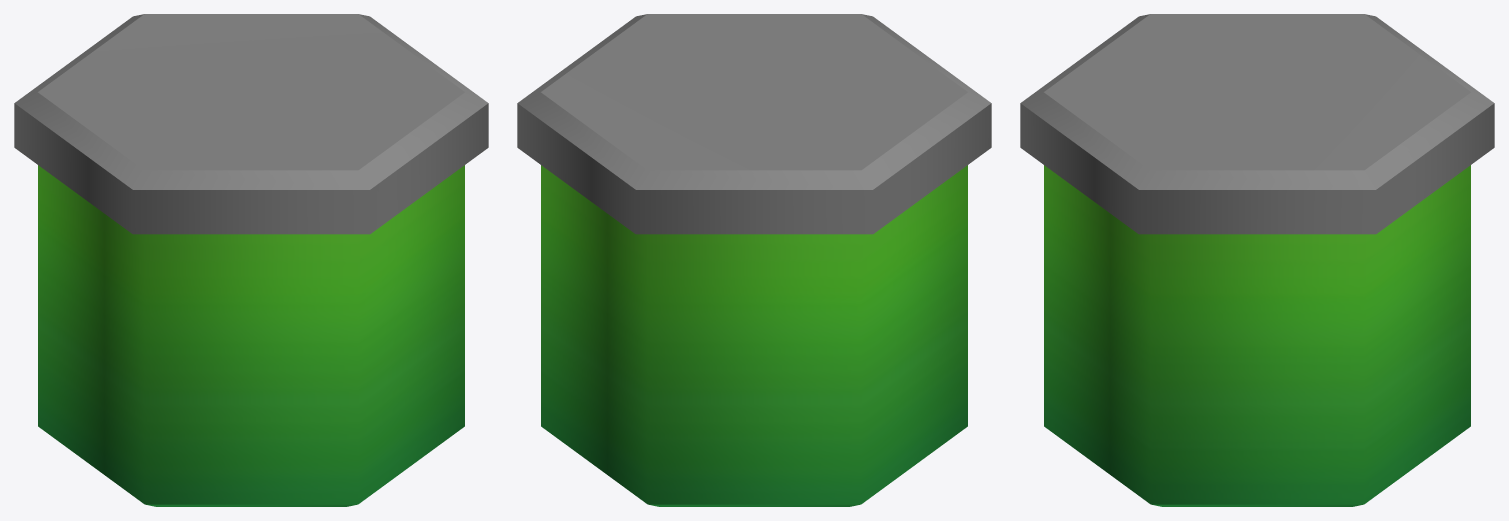
Rendered from Jar_2_H.fbx.
3 views of the same model, side by side, from view 1: azimuth 30°, elevation 25°; view 2: azimuth 150°, elevation 25°; view 3: azimuth 270°, elevation 25° (orthographic).
Parts seen in each view (by area): view 1: Jar_2_H; view 2: Jar_2_H; view 3: Jar_2_H.
Boxes of the visible parts, left/top/right/bottom form: Jar_2_H: left=14, top=14, right=488, bottom=506; Jar_2_H: left=517, top=14, right=991, bottom=506; Jar_2_H: left=1020, top=14, right=1494, bottom=506.
Size of the model in its own units: 17.99 by 16.69 by 20.77.
